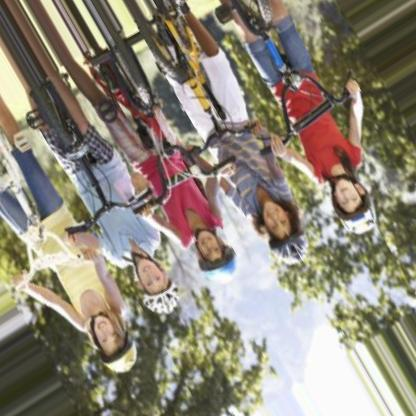with helmet: (261, 199, 310, 266), (134, 256, 182, 321), (91, 313, 139, 374), (331, 177, 376, 232), (194, 229, 236, 280)
